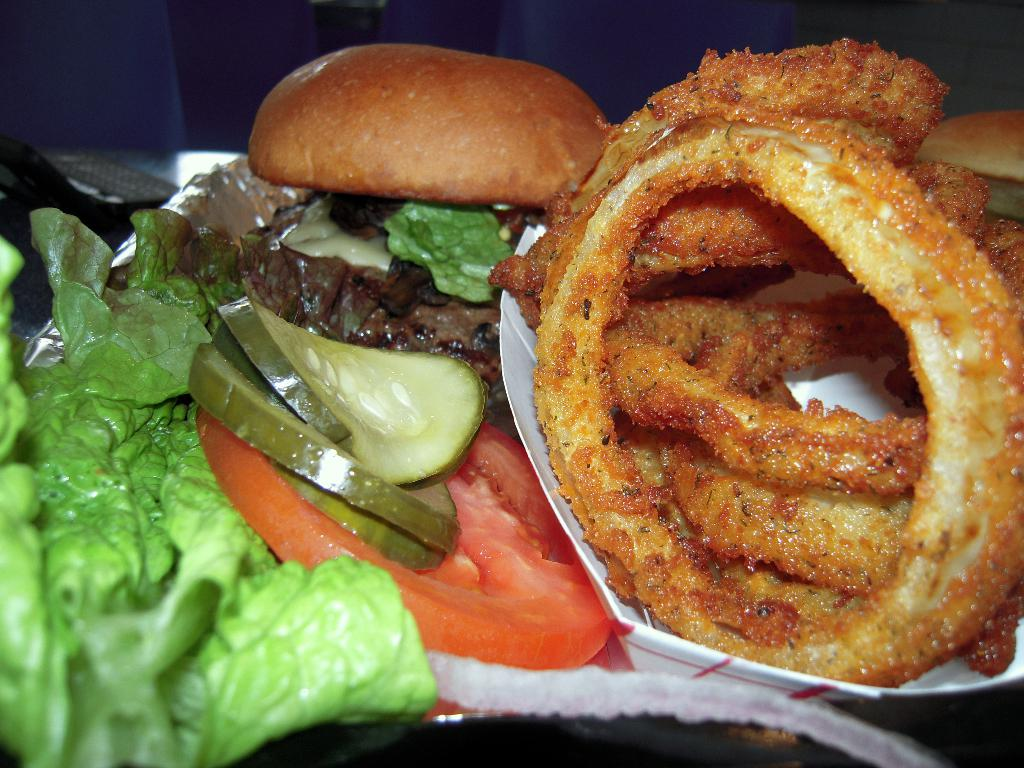Hamburger: (243, 44, 604, 404)
